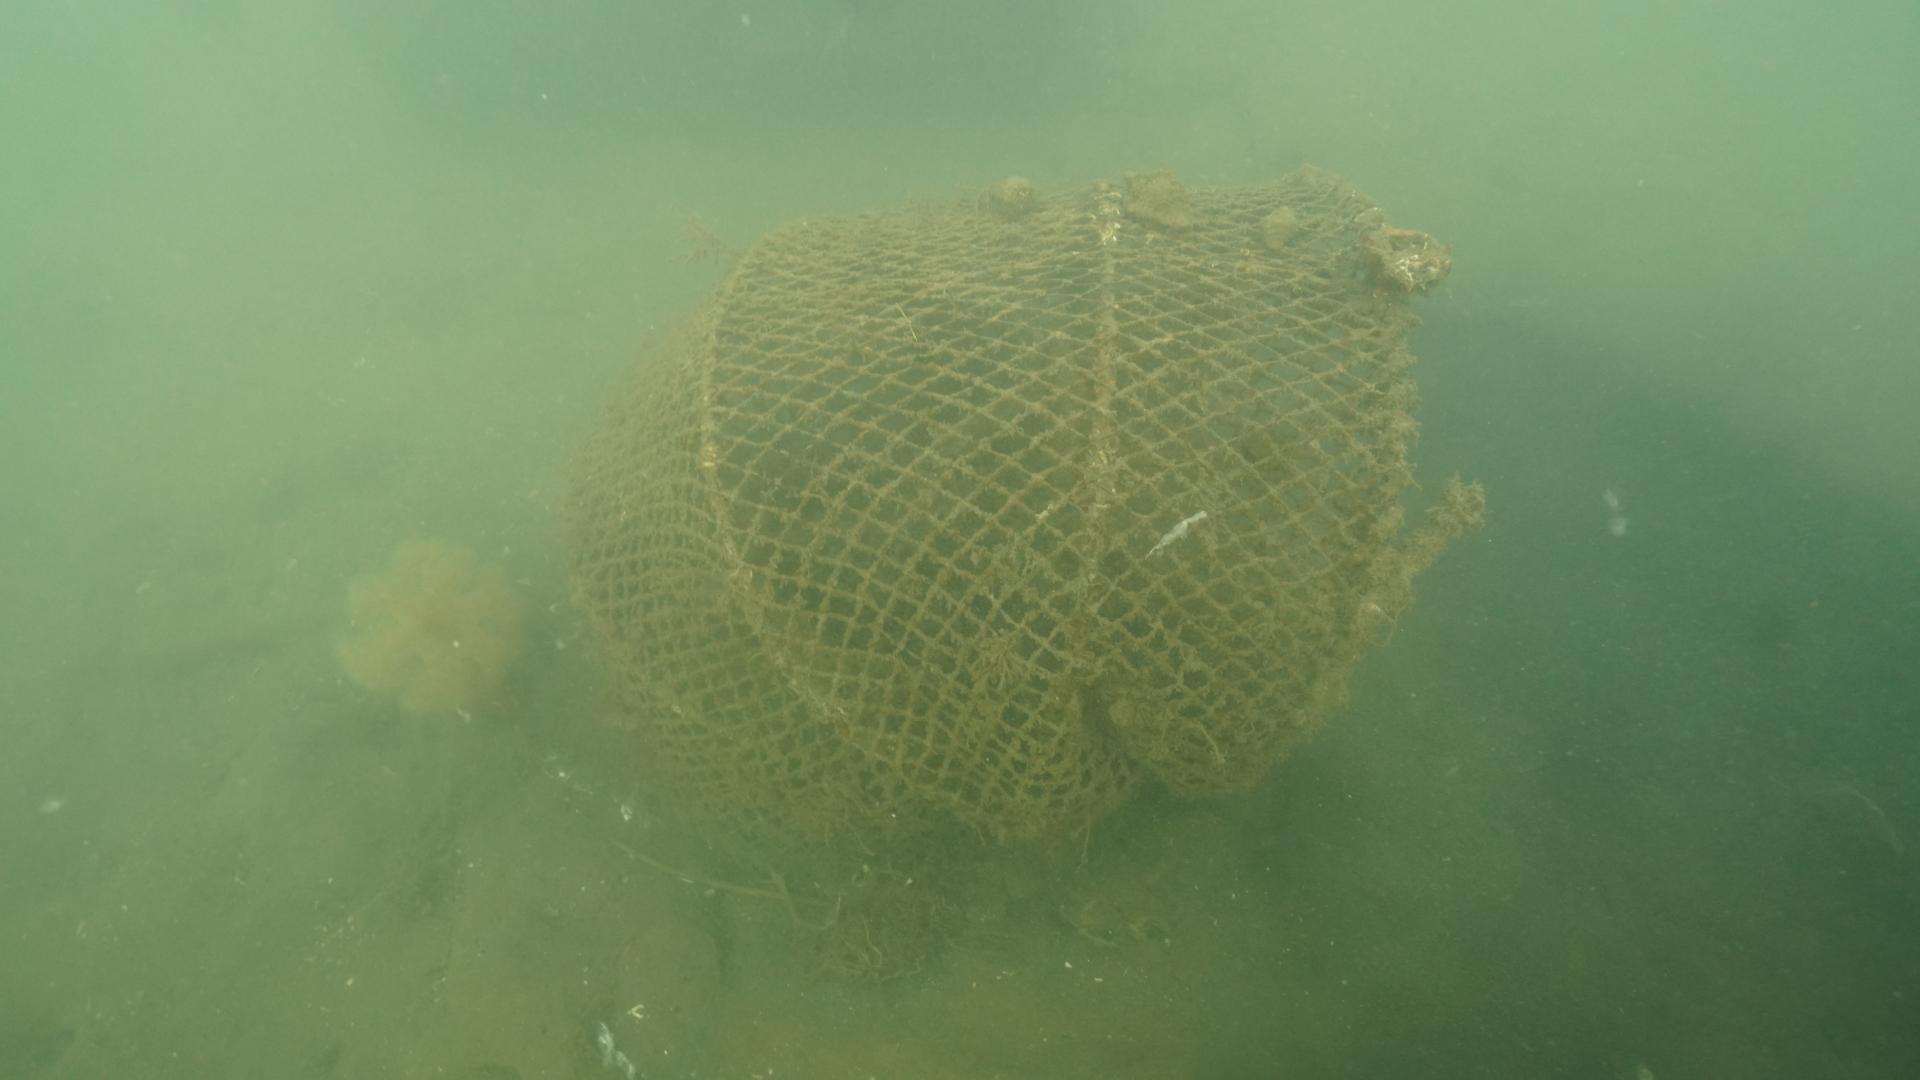spring fish trap: (559, 160, 1458, 899)
